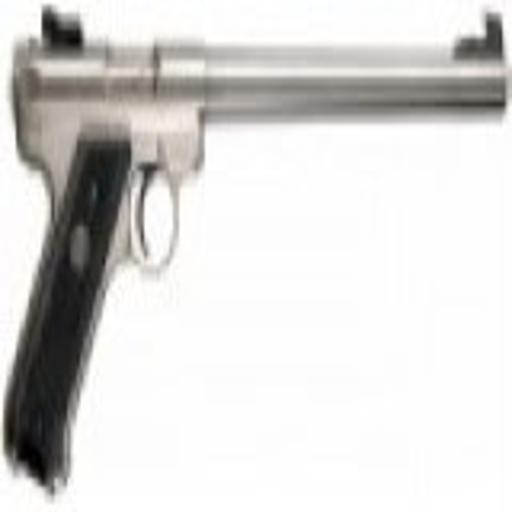Handgun: (2, 3, 511, 498)
